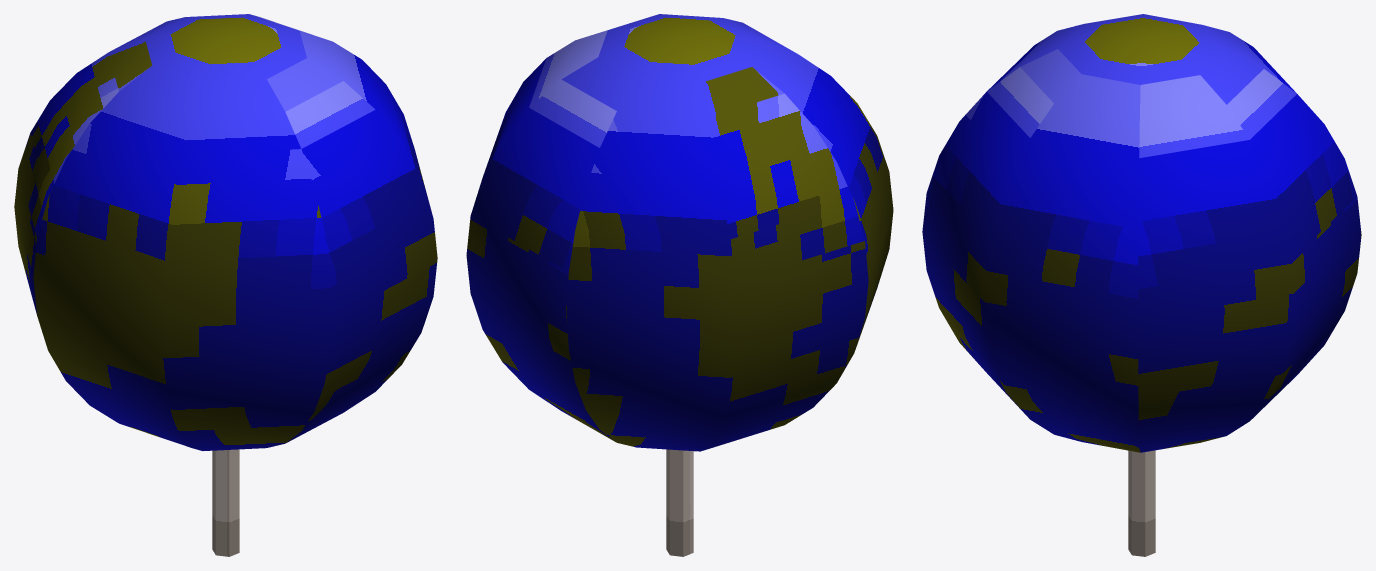
File: 00_britannia.gltf
3 renders of one model, left to right at view 1: azimuth 30°, elevation 25°; view 2: azimuth 150°, elevation 25°; view 3: azimuth 270°, elevation 25°, orthographic.
Visible parts, largest first — view 1: 00_britannia; view 2: 00_britannia; view 3: 00_britannia.
Part boxes in pixels (x1,y1,x2,y2): 00_britannia: (14, 14, 437, 556); 00_britannia: (466, 14, 893, 556); 00_britannia: (922, 14, 1361, 556).
Bounding box in the file's own units: 2.5 × 3.24 × 2.5.
2 materials, 2 textured.
